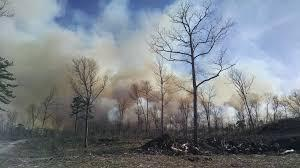smoke: (0, 1, 294, 129)
